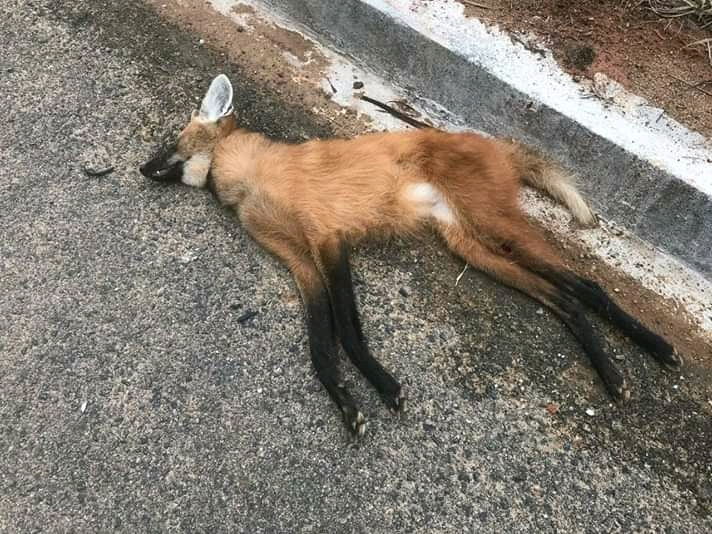LoboGuara: (133, 74, 687, 432)
